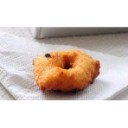vada: (31, 50, 100, 92)
